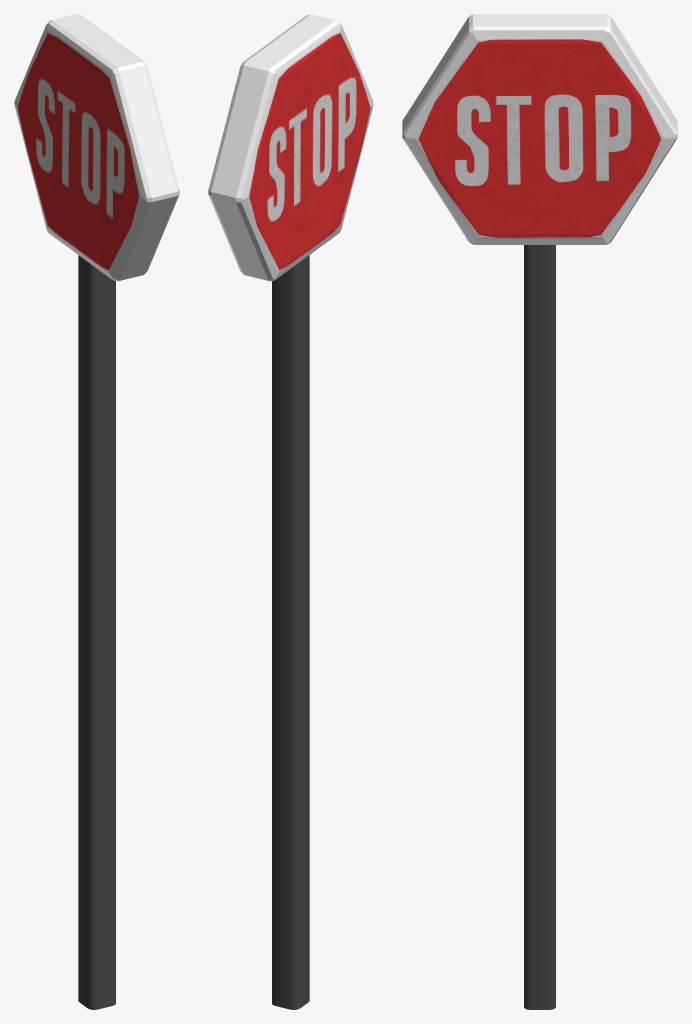
Rendered from stop-sign.fbx.
3 views of the same model, side by side, from view 1: azimuth 30°, elevation 25°; view 2: azimuth 150°, elevation 25°; view 3: azimuth 270°, elevation 25° (orthographic). The views are drawn at different scales.
Visible parts, largest first — view 1: Cylinder, Cube; view 2: Cylinder, Cube; view 3: Cylinder, Cube.
Boxes of the visible parts, x1,y1,x2,y2 form: Cylinder: (14,14,179,281); Cube: (78,255,115,1009); Cylinder: (208,14,373,281); Cube: (272,255,309,1009); Cylinder: (402,14,677,244); Cube: (524,245,555,1009).
Size of the model in its own units: 32 by 779 by 198.
Materials: 2 (1 with a texture image).
